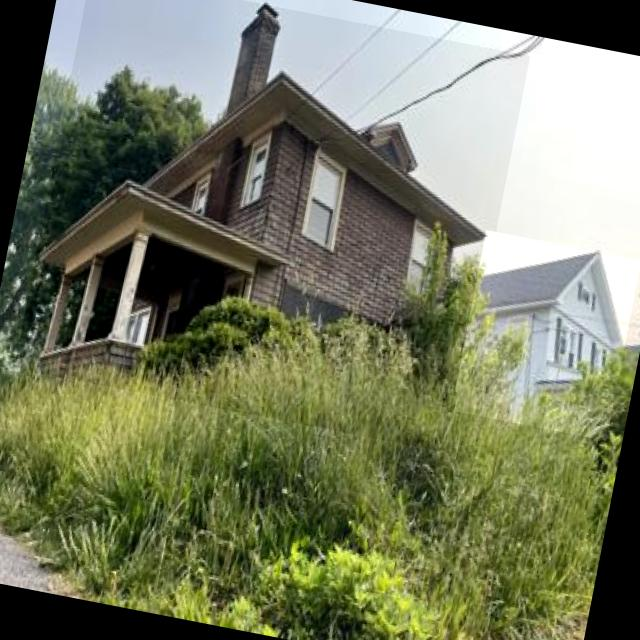House: (14, 0, 530, 454), (451, 230, 640, 441)
